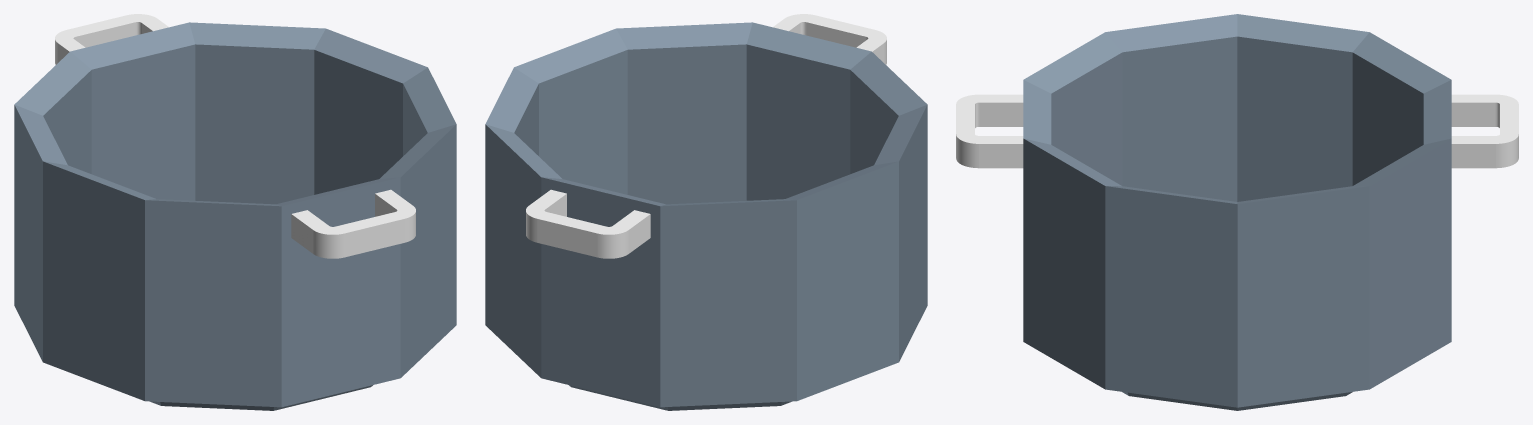
File: pot.fbx
3 views of the same model, side by side, from view 1: azimuth 30°, elevation 25°; view 2: azimuth 150°, elevation 25°; view 3: azimuth 270°, elevation 25° (orthographic).
Visible parts, largest first — view 1: pot; view 2: pot; view 3: pot.
Boxes of the visible parts, x1,y1,x2,y2 form: pot: [14, 14, 456, 410]; pot: [485, 14, 927, 410]; pot: [956, 14, 1518, 410].
Bounding box in the file's own units: 6.57 × 3.61 × 8.22.
